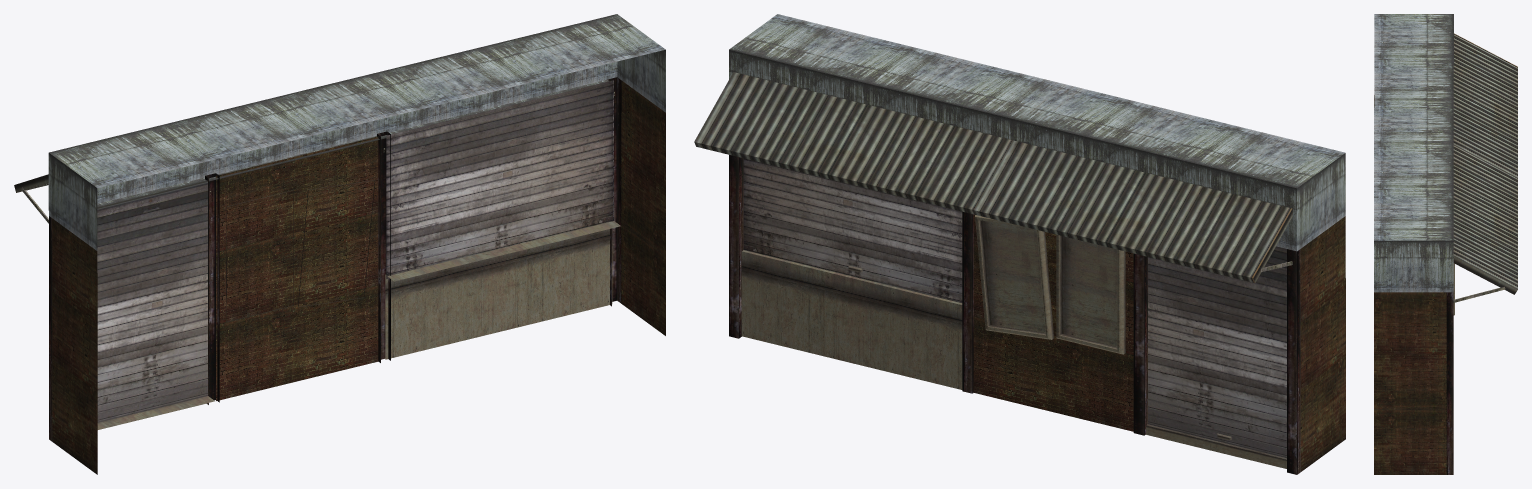
Rendered from Store_front_20.fbx.
The picture shows the model from 3 angles, left to right: view 1: azimuth 30°, elevation 25°; view 2: azimuth 150°, elevation 25°; view 3: azimuth 270°, elevation 25°; orthographic projection. The views are drawn at different scales.
Parts seen in each view (by area): view 1: Store_front_20; view 2: Store_front_20; view 3: Store_front_20.
Boxes of the visible parts, left/top/right/bottom form: Store_front_20: left=14, top=14, right=665, bottom=474; Store_front_20: left=694, top=14, right=1345, bottom=474; Store_front_20: left=1374, top=14, right=1517, bottom=474.
Bounding box in the file's own units: 700 × 337 × 188.
